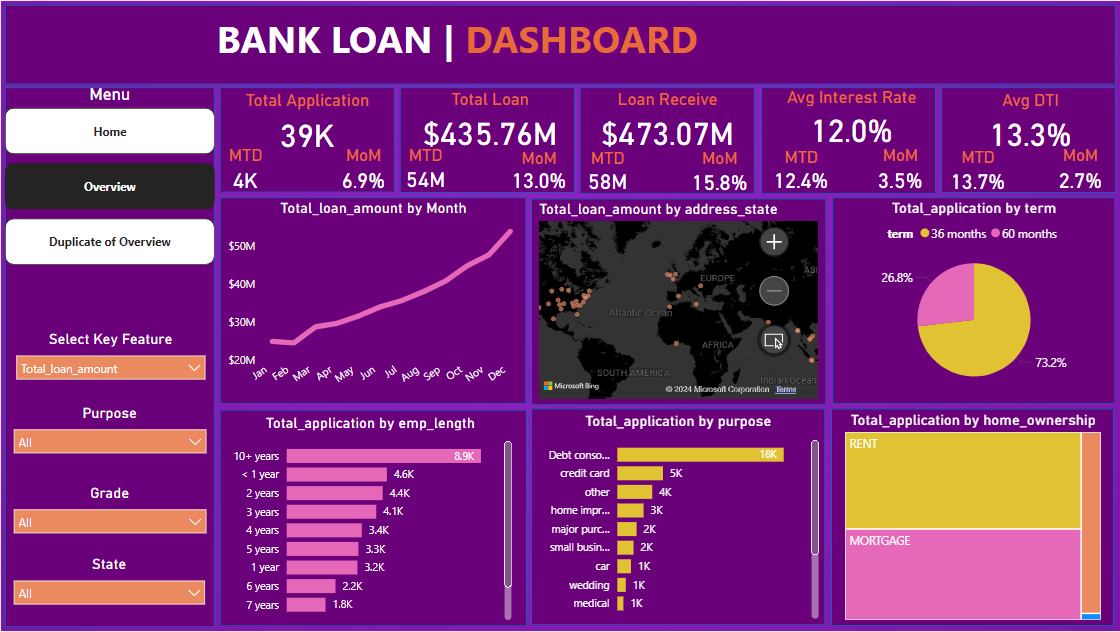

This screenshot's page, from the dashboard's own definition file:
{"tool":"powerbi","page":{"name":"Overview","canvas":[1280,720],"ordinal":1},"visuals":[{"type":"shape","box":[4.3,4.6,1270,91.1],"z":0},{"type":"textbox","box":[241.2,8.8,583.8,77.5],"z":1000},{"type":"shape","box":[4.3,98.6,240,617.1],"z":2000},{"type":"shape","box":[250,98.3,200,120.3],"z":3000},{"type":"card","title":"MTD","fields":{"Values":["financial_loan.CMT_application"]},"box":[250,166.2,58.8,55],"z":4000},{"type":"card","title":"Total Application","fields":{"Values":["financial_loan.Total_application"]},"box":[248.3,102.6,202.9,74.3],"z":5000},{"type":"card","title":"MoM","fields":{"Values":["financial_loan.MoM_application"]},"box":[378.8,166.2,71.2,55],"z":6000},{"type":"shape","box":[456.2,98.8,200,120.8],"z":7000},{"type":"card","title":"Total Loan","fields":{"Values":["Sum(financial_loan.loan_amount)"]},"box":[471.7,101.7,175,72.5],"z":8000},{"type":"card","title":"MTD","fields":{"Values":["financial_loan.CMT_loan_amount"]},"box":[455,166.2,58.8,53.8],"z":9000},{"type":"card","title":"MoM","fields":{"Values":["financial_loan.MoM_loan_amount"]},"box":[573.8,168.8,81.2,51.5],"z":10000},{"type":"shape","box":[661.2,98.8,200,121.7],"z":11000},{"type":"shape","box":[868.8,98.8,200,121.7],"z":12000},{"type":"shape","box":[1073.8,98.8,200,120.8],"z":13000},{"type":"card","title":"Loan Receive","fields":{"Values":["Sum(financial_loan.total_payment)"]},"box":[678.3,101.7,166.2,73.8],"z":14000},{"type":"card","title":"MTD","fields":{"Values":["financial_loan.CMT_loan_back"]},"box":[663.8,168.8,57.5,52.5],"z":15000},{"type":"card","title":"MoM","fields":{"Values":["financial_loan.MoM_loan_back"]},"box":[780,168.5,82.5,55.3],"z":16000},{"type":"card","title":"Avg Interest Rate","fields":{"Values":["Avg(financial_loan.int_rate)"]},"box":[891.4,98.6,161.4,72.9],"z":17000},{"type":"card","title":"MTD","fields":{"Values":["financial_loan.CMT_int_rate"]},"box":[870,167.5,88.8,53.8],"z":18000},{"type":"card","title":"MoM","fields":{"Values":["financial_loan.MoM_int_rate"]},"box":[987.5,166.2,81.2,55],"z":19000},{"type":"card","title":"Avg DTI","fields":{"Values":["Avg(financial_loan.dti)"]},"box":[1104.6,103.1,144.3,72.9],"z":20000},{"type":"card","title":"MTD","fields":{"Values":["financial_loan.CMT_dti"]},"box":[1076.2,167.5,81.2,55],"z":21000},{"type":"card","title":"MoM","fields":{"Values":["financial_loan.MoM_dti"]},"box":[1192.5,166.2,81.2,55],"z":22000},{"type":"shape","box":[250,223.8,350.3,236.2],"z":23000},{"type":"shape","box":[606.2,225,337.5,236.2],"z":24000},{"type":"slicer","title":"Purpose","fields":{"Values":["financial_loan.purpose"]},"box":[3.8,460,240,81.2],"z":25000},{"type":"slicer","title":"Grade","fields":{"Values":["financial_loan.grade"]},"box":[3.8,551.2,240,67.5],"z":26000},{"type":"slicer","title":"State","fields":{"Values":["financial_loan.address_state"]},"box":[3.8,633,238.8,83.8],"z":27000},{"type":"pageNavigator","title":"Menu","box":[3.8,96.2,240,207.5],"z":28000},{"type":"shape","box":[250,467.5,351,247.5],"z":29000},{"type":"shape","box":[950.3,223.8,323.5,236.2],"z":30000},{"type":"lineChart","fields":{"Y":["financial_loan.Total_loan_amount"],"Category":["Calendar.Month"]},"box":[253.8,226.2,343,232.5],"z":31000},{"type":"slicer","title":"Select Key Feature","fields":{"Values":["Select.Select"]},"box":[7.5,375,236.2,76.2],"z":32000},{"type":"map","fields":{"Y":["financial_loan.Total_loan_amount"],"Category":["financial_loan.address_state"]},"box":[610.5,227.5,328.2,232.5],"z":33000},{"type":"pieChart","fields":{"Category":["financial_loan.term"],"Y":["financial_loan.Total_application"]},"box":[959,226.2,307.2,228.8],"z":34000},{"type":"shape","box":[606.2,466.2,336.2,247.5],"z":35000},{"type":"shape","box":[948.8,466.2,323.3,248.8],"z":36000},{"type":"barChart","fields":{"Y":["financial_loan.Total_application"],"Category":["financial_loan.emp_length"]},"box":[255,471.2,333,241.2],"z":37000},{"type":"barChart","fields":{"Y":["financial_loan.Total_application"],"Category":["financial_loan.purpose"]},"box":[608.8,470,331,241.2],"z":38000},{"type":"treemap","fields":{"Values":["financial_loan.Total_application"],"Details":["financial_loan.home_ownership"]},"box":[960.5,468.8,302,243.8],"z":39000}]}

Visuals, with their boxes in screenshot pixels (x1, y1, x2, y2), scaled from the page's 1280x720 canvas onto the 1120x632 screenshot:
shape: box(4, 4, 1115, 84)
textbox: box(211, 8, 722, 76)
shape: box(4, 87, 214, 628)
shape: box(219, 86, 394, 192)
"MTD" card: box(219, 146, 270, 194)
"Total Application" card: box(217, 90, 395, 155)
"MoM" card: box(331, 146, 394, 194)
shape: box(399, 87, 574, 193)
"Total Loan" card: box(413, 89, 566, 153)
"MTD" card: box(398, 146, 450, 193)
"MoM" card: box(502, 148, 573, 193)
shape: box(579, 87, 754, 194)
shape: box(760, 87, 935, 194)
shape: box(940, 87, 1115, 193)
"Loan Receive" card: box(594, 89, 739, 154)
"MTD" card: box(581, 148, 631, 194)
"MoM" card: box(682, 148, 755, 196)
"Avg Interest Rate" card: box(780, 87, 921, 151)
"MTD" card: box(761, 147, 839, 194)
"MoM" card: box(864, 146, 935, 194)
"Avg DTI" card: box(967, 90, 1093, 154)
"MTD" card: box(942, 147, 1013, 195)
"MoM" card: box(1043, 146, 1114, 194)
shape: box(219, 196, 525, 404)
shape: box(530, 198, 826, 405)
"Purpose" slicer: box(3, 404, 213, 475)
"Grade" slicer: box(3, 484, 213, 543)
"State" slicer: box(3, 556, 212, 629)
"Menu" pageNavigator: box(3, 84, 213, 267)
shape: box(219, 410, 526, 628)
shape: box(832, 196, 1115, 404)
lineChart - financial_loan.Total_loan_amount x Calendar.Month: box(222, 199, 522, 403)
"Select Key Feature" slicer: box(7, 329, 213, 396)
map - financial_loan.Total_loan_amount x financial_loan.address_state: box(534, 200, 821, 404)
pieChart - financial_loan.term x financial_loan.Total_application: box(839, 199, 1108, 399)
shape: box(530, 409, 825, 626)
shape: box(830, 409, 1113, 628)
barChart - financial_loan.Total_application x financial_loan.emp_length: box(223, 414, 514, 625)
barChart - financial_loan.Total_application x financial_loan.purpose: box(533, 413, 822, 624)
treemap - financial_loan.Total_application x financial_loan.home_ownership: box(840, 412, 1105, 626)
